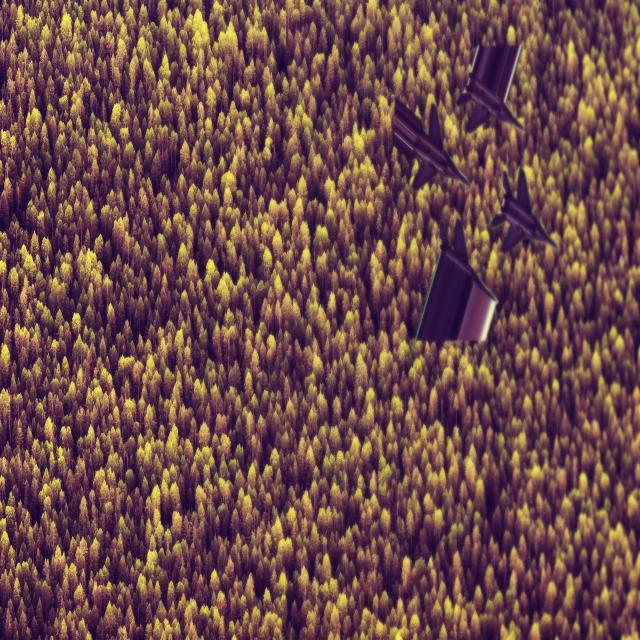airplane: (414, 216, 498, 345), (390, 94, 471, 191), (456, 41, 526, 134), (491, 166, 559, 254)
